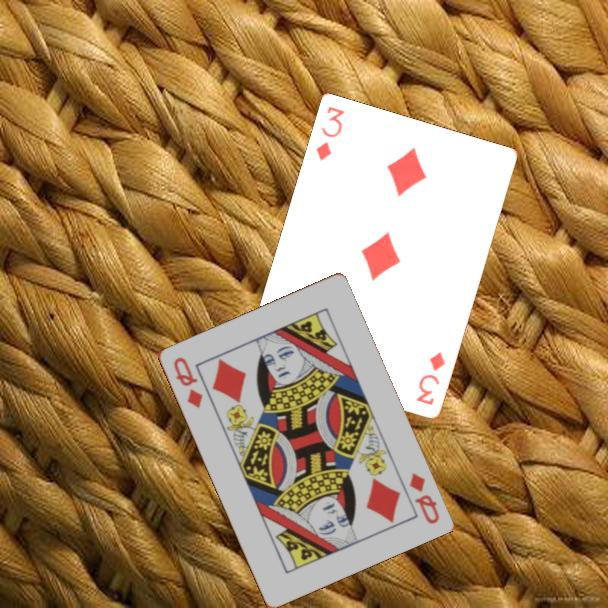d03: (312, 103, 348, 164), (413, 349, 448, 408)
d12: (405, 469, 442, 527), (169, 353, 205, 411)
